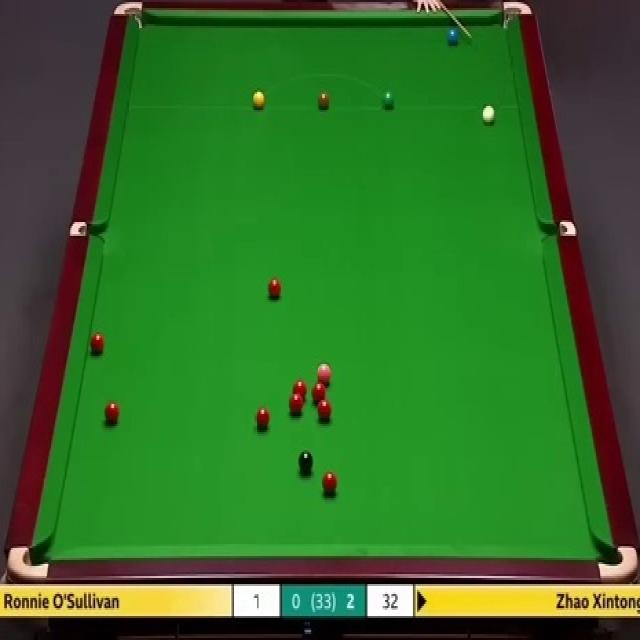black-ball: (299, 451, 315, 473)
blue-ball: (446, 27, 459, 46)
brown-ball: (318, 90, 331, 110)
green-ball: (381, 90, 395, 111)
pink-ball: (316, 359, 332, 384)
red-ball: (255, 405, 271, 432), (90, 332, 107, 356), (322, 470, 338, 494), (104, 400, 120, 424), (317, 396, 332, 421), (267, 275, 282, 300), (310, 380, 326, 402), (293, 378, 307, 401), (289, 393, 303, 414)
white-ball: (480, 104, 496, 125)
yellow-ball: (251, 89, 266, 110)
